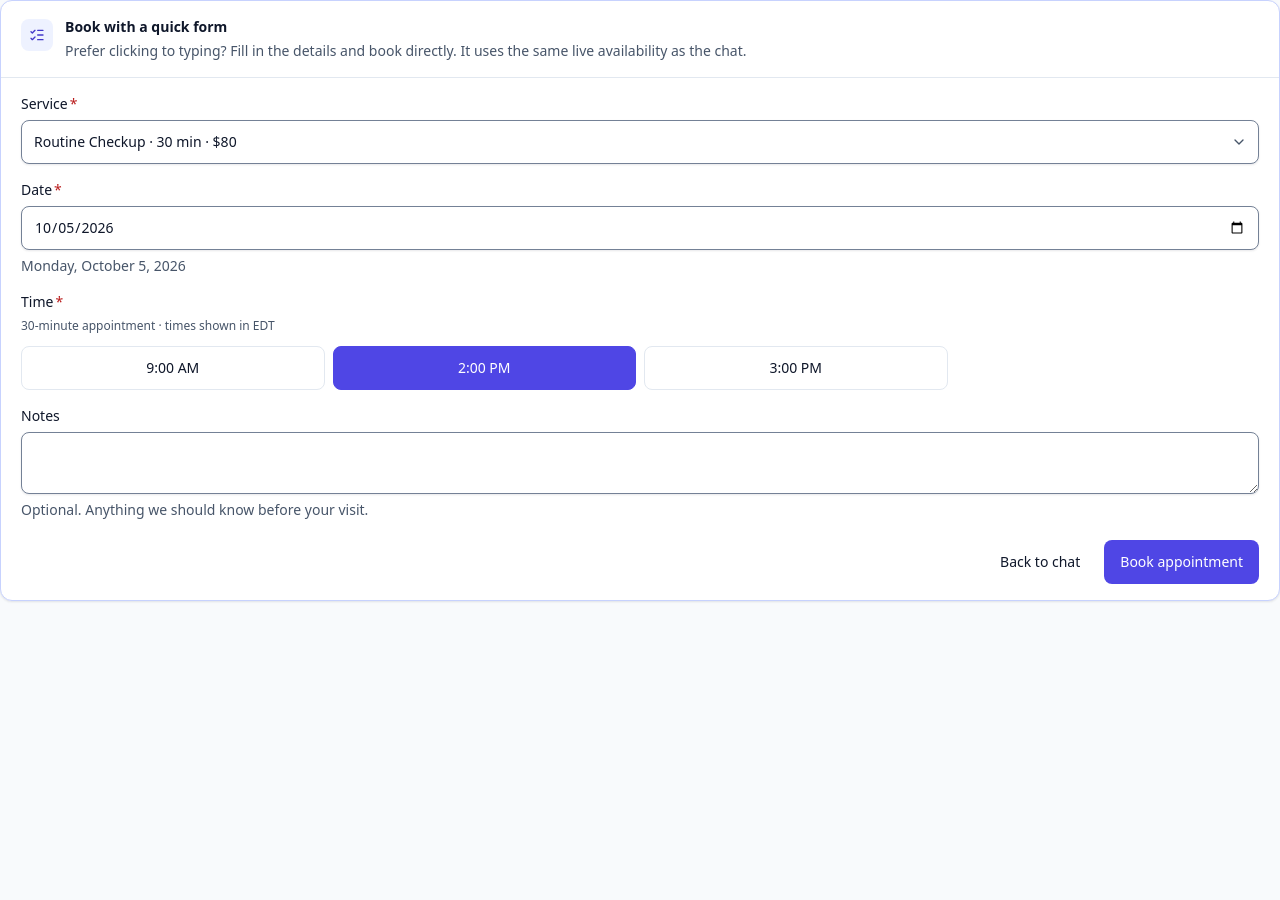
Test case: FallbackFormCard › server errors › a time lost to another booking comes back as a turn: the picker refreshes and the time is cleared
The image size is (1280, 900).
Expected: the radio button labelled "2:00 PM" is shown, [332,346,636,390]
What coordinates should you click on to do the following:
click the button "Book appointment"
I would click on:
 (1182, 562)
Its box is [1104,540,1259,584].
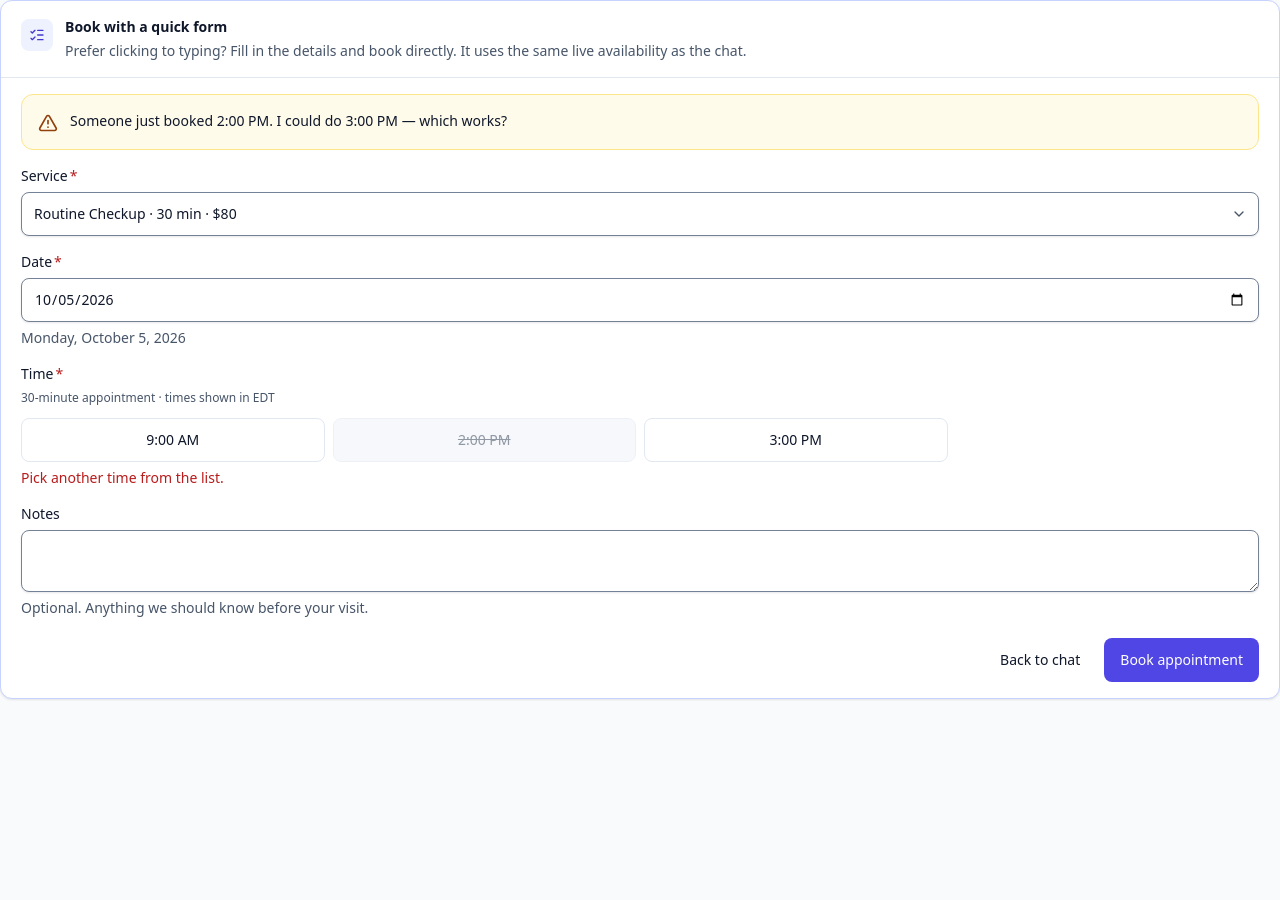
Result: the text "Someone just booked 2:00 PM. I could do 3:00 PM — which works?" is shown at [70,111,507,130]
Result: the text "Pick another time from the list." is shown at [21,468,224,487]
Result: the radio button labelled "2:00 PM" is disabled at [332,418,636,462]
